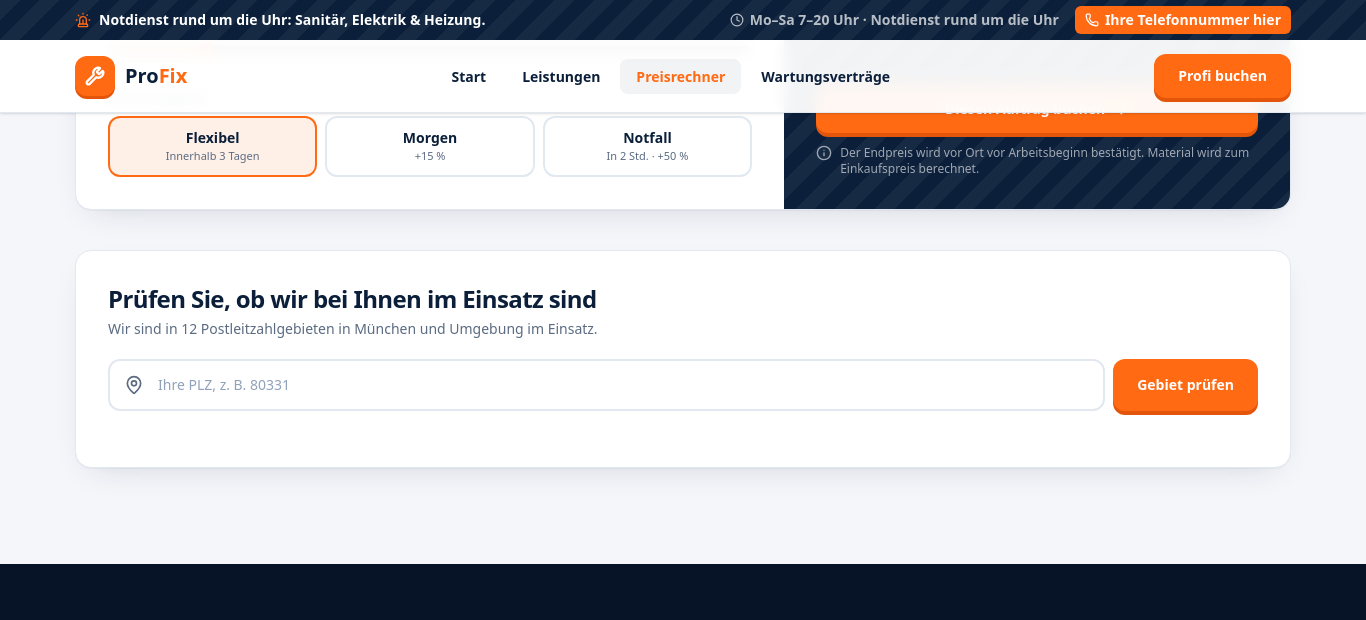
Test: zip checker › validates, then checks coverage with offline fallback
(page scrolled)
Type "12" into the field named "Postleitzahl".
click(607, 384); type("12")  # box [108,358,1105,410]
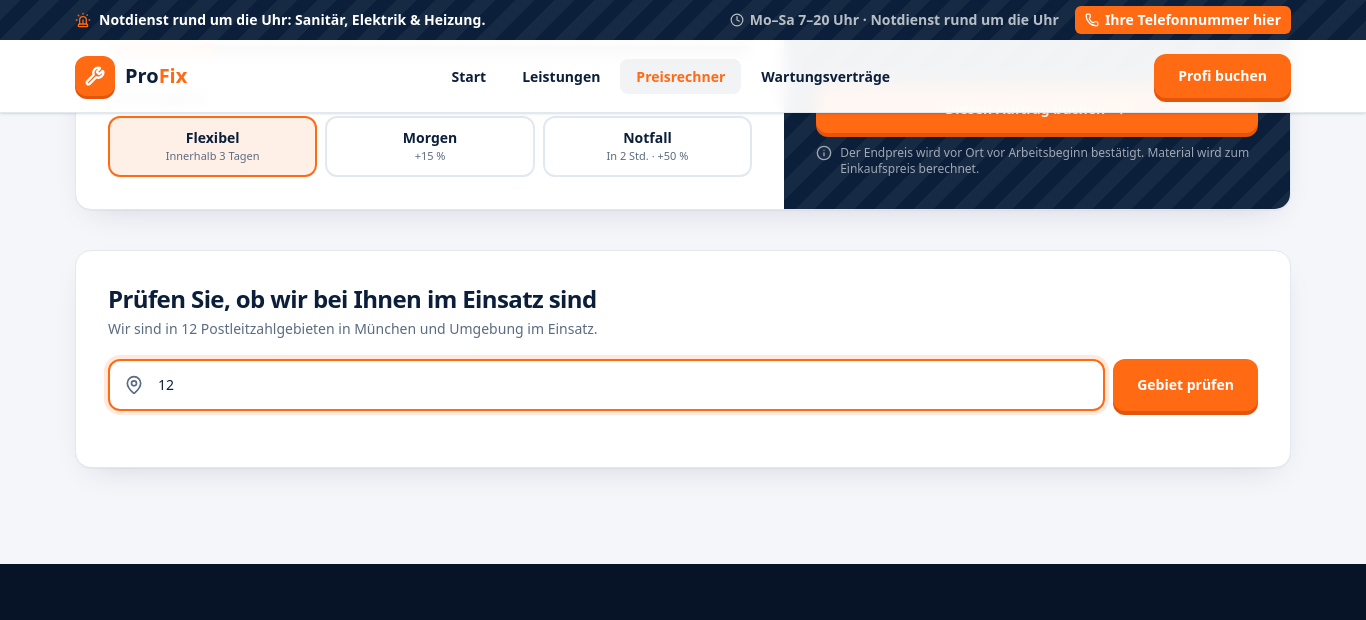
Click the button "Gebiet prüfen".
click(1186, 384)  # box [1113,358,1258,410]
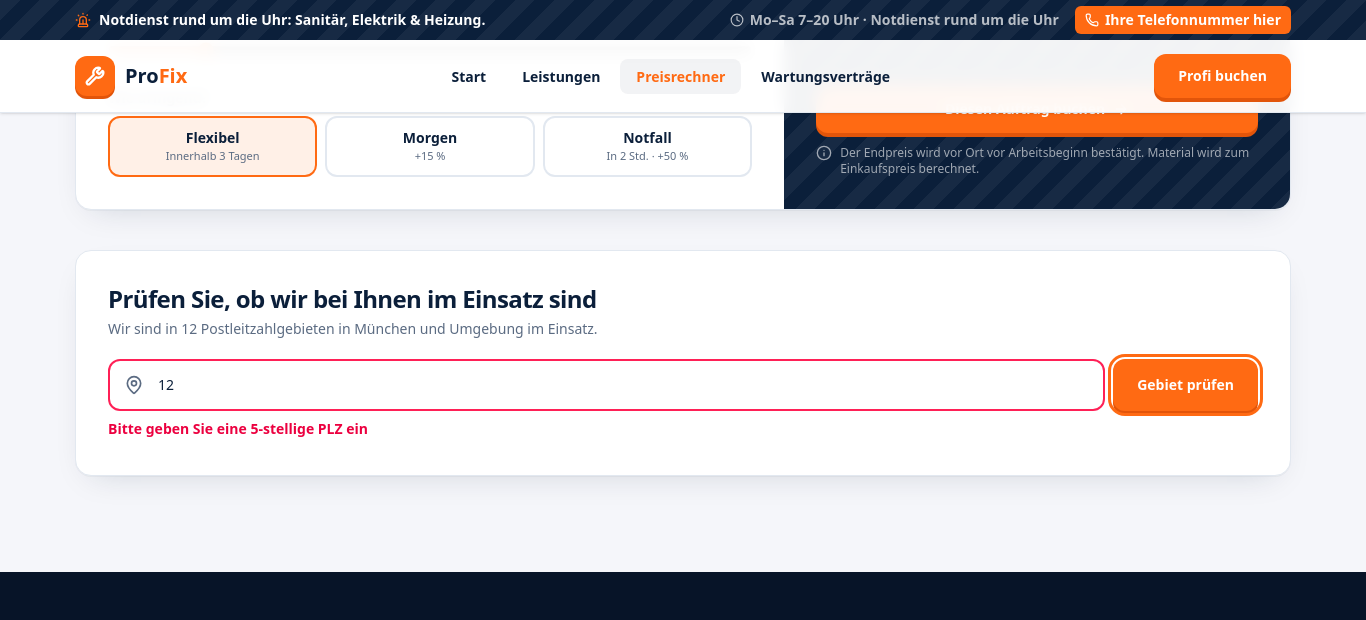
Check: the text "Bitte geben Sie eine 5-stellige PLZ ein" is shown, box [108,418,368,438]
Replace the text in the field named "Postleitzahl" with "80331" at [607, 384], box [108,358,1105,410]
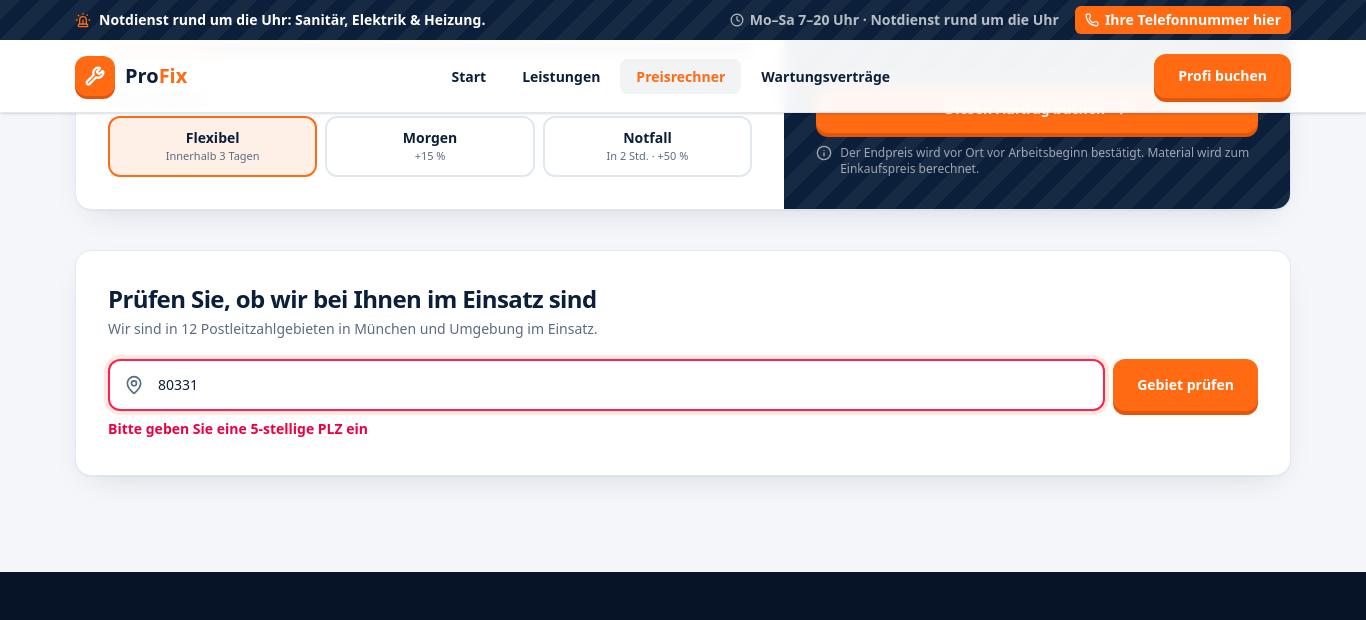
Click the button "Gebiet prüfen".
click(1186, 384)  # box [1113,358,1258,410]
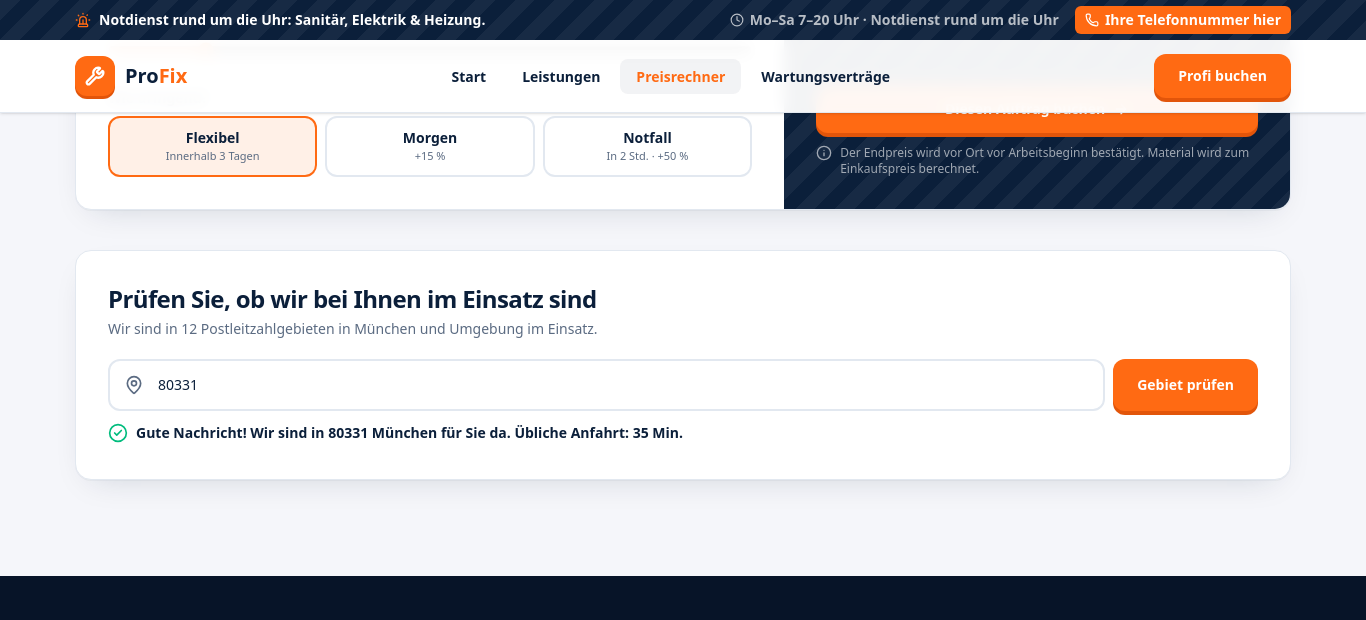
Check: the text "80331 München" is shown, box [108,422,683,442]
Replace the text in the field named "Postleitzahl" with "10115" at [607, 384], box [108,358,1105,410]
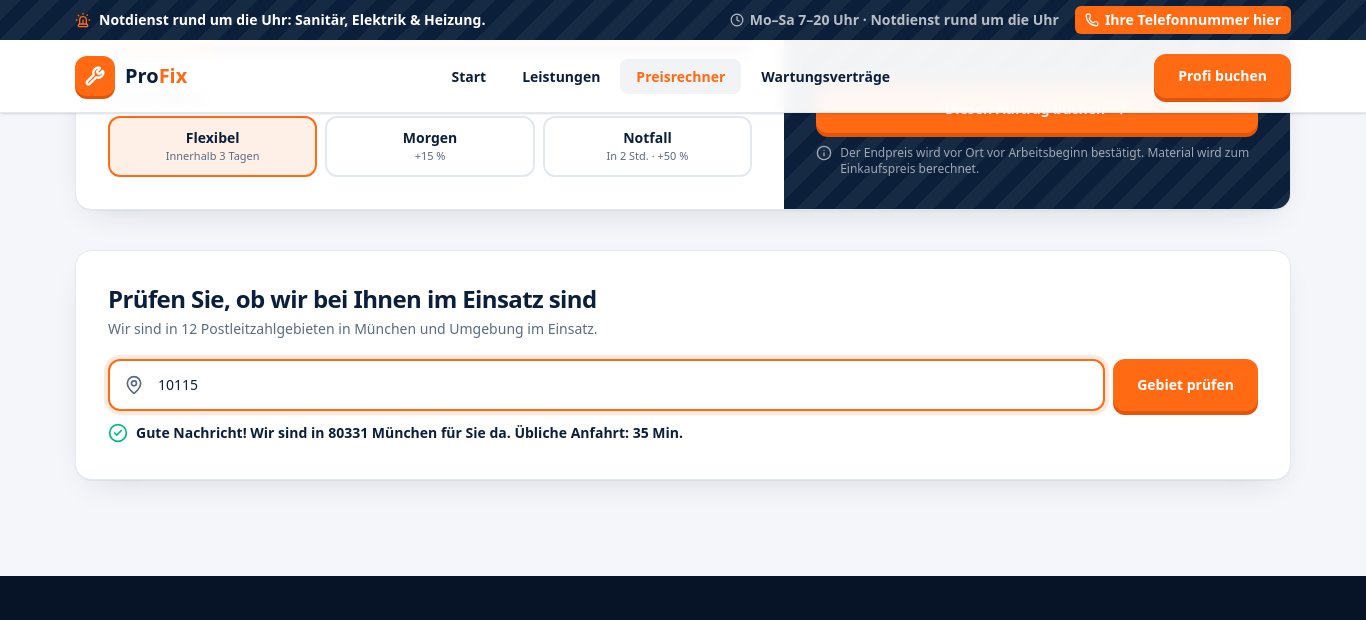
Click the button "Gebiet prüfen".
click(1186, 384)  # box [1113,358,1258,410]
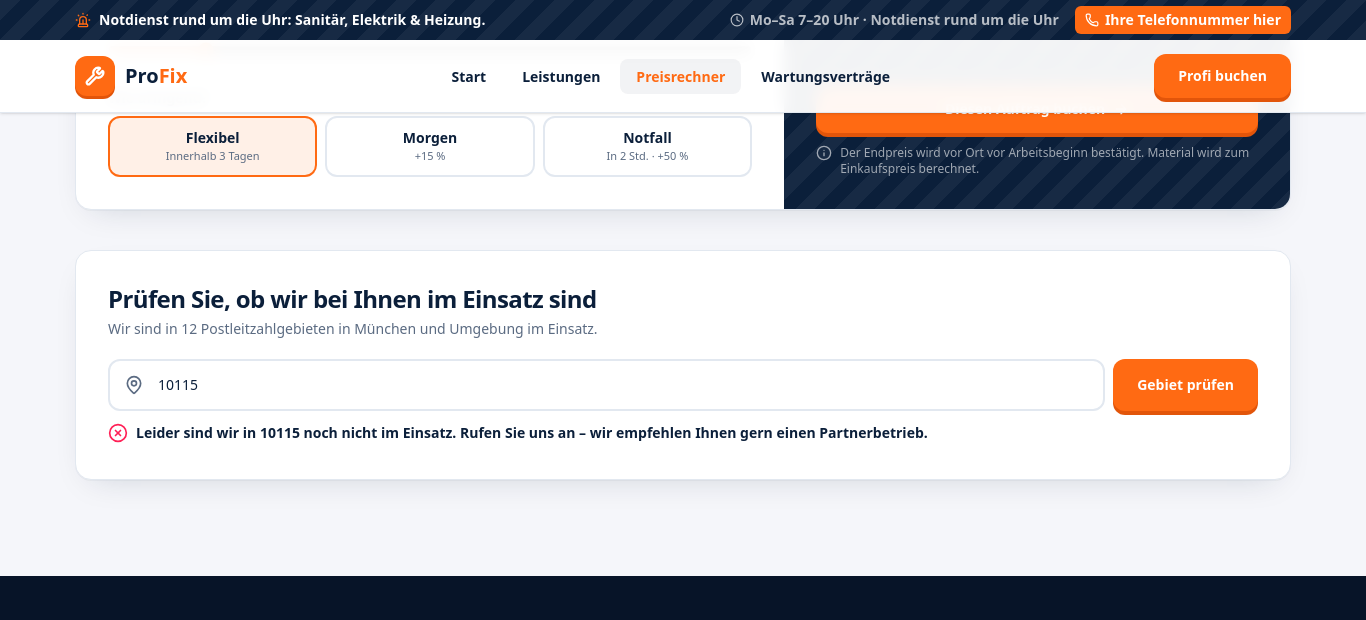
Check: the text "in 10115 noch nicht" is shown, box [108,422,928,442]
